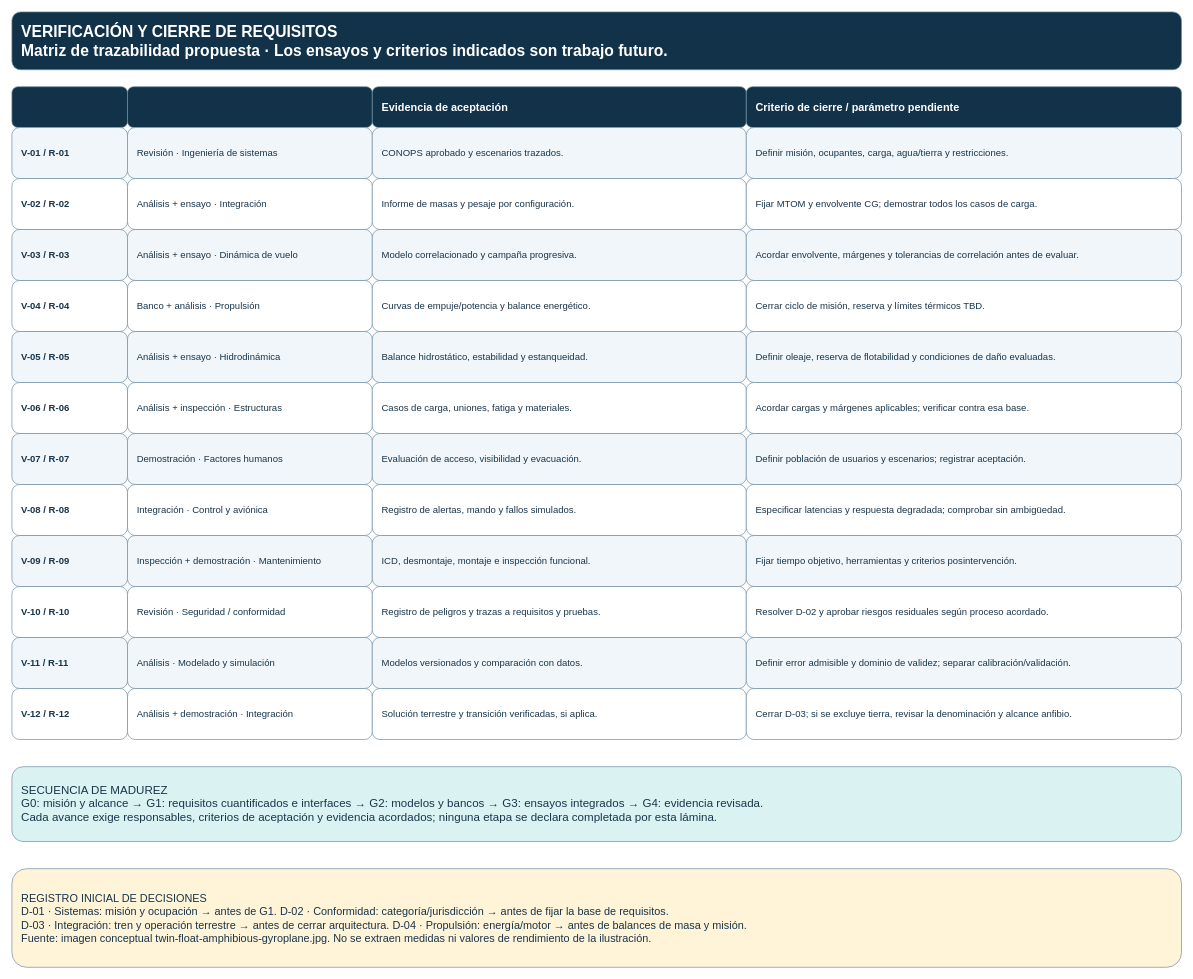
Image size: 1193x979. Some labels were removed from this diagram. Here are the shapes that lost their labels. From the top down, the centre of each, then its label:
the point at 69,107: ID / requisito
the point at 249,107: Método y responsable propuesto
